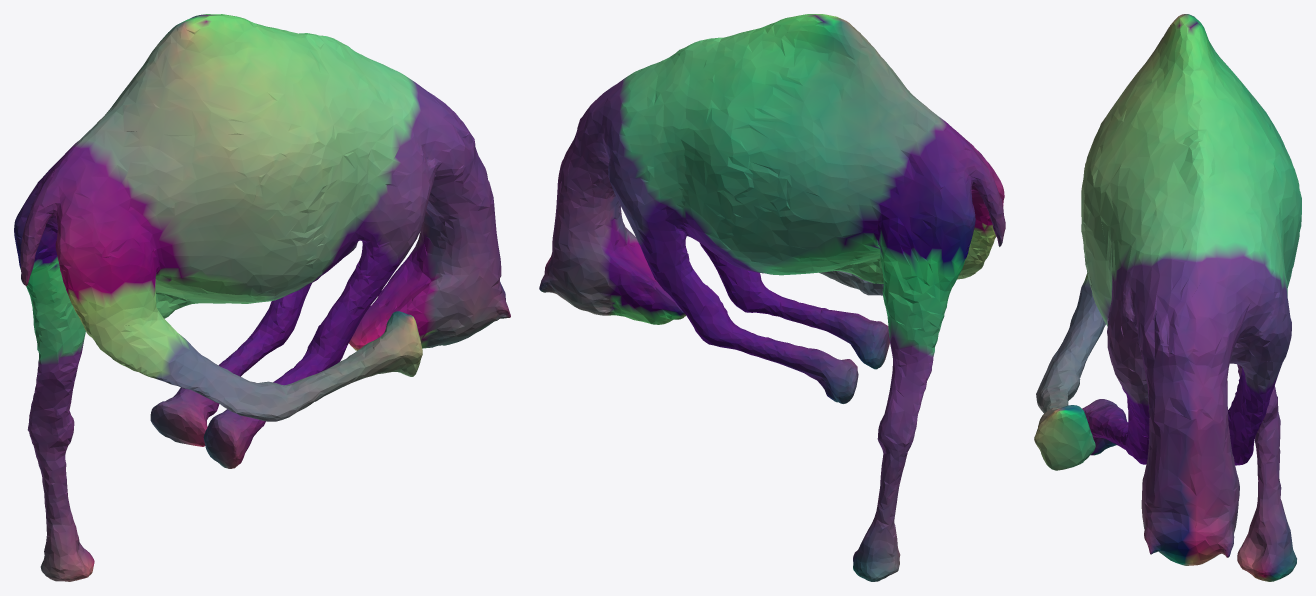
Rendered from camel-19.off.obj.
3 views of the same model, side by side, from view 1: azimuth 30°, elevation 25°; view 2: azimuth 150°, elevation 25°; view 3: azimuth 270°, elevation 25° (orthographic). The views are drawn at different scales.
Size of the model in its own units: 1.25 by 1.38 by 0.5575.
